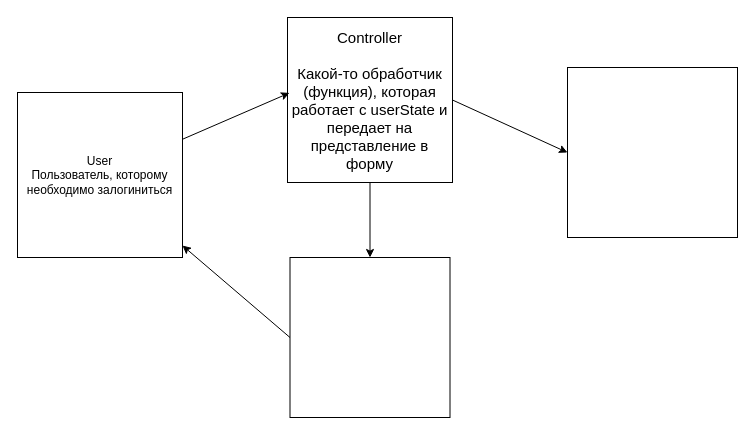
Some shapes in this 755 by 435 pixel diagram are drawn without their labels. The centre of each missing label's shape, as x and y in pixels:
Model userState = { login: "", email: "", password: "", }: the point at 652,152
View Форма в которой отображаются введение данные: the point at 369,337
